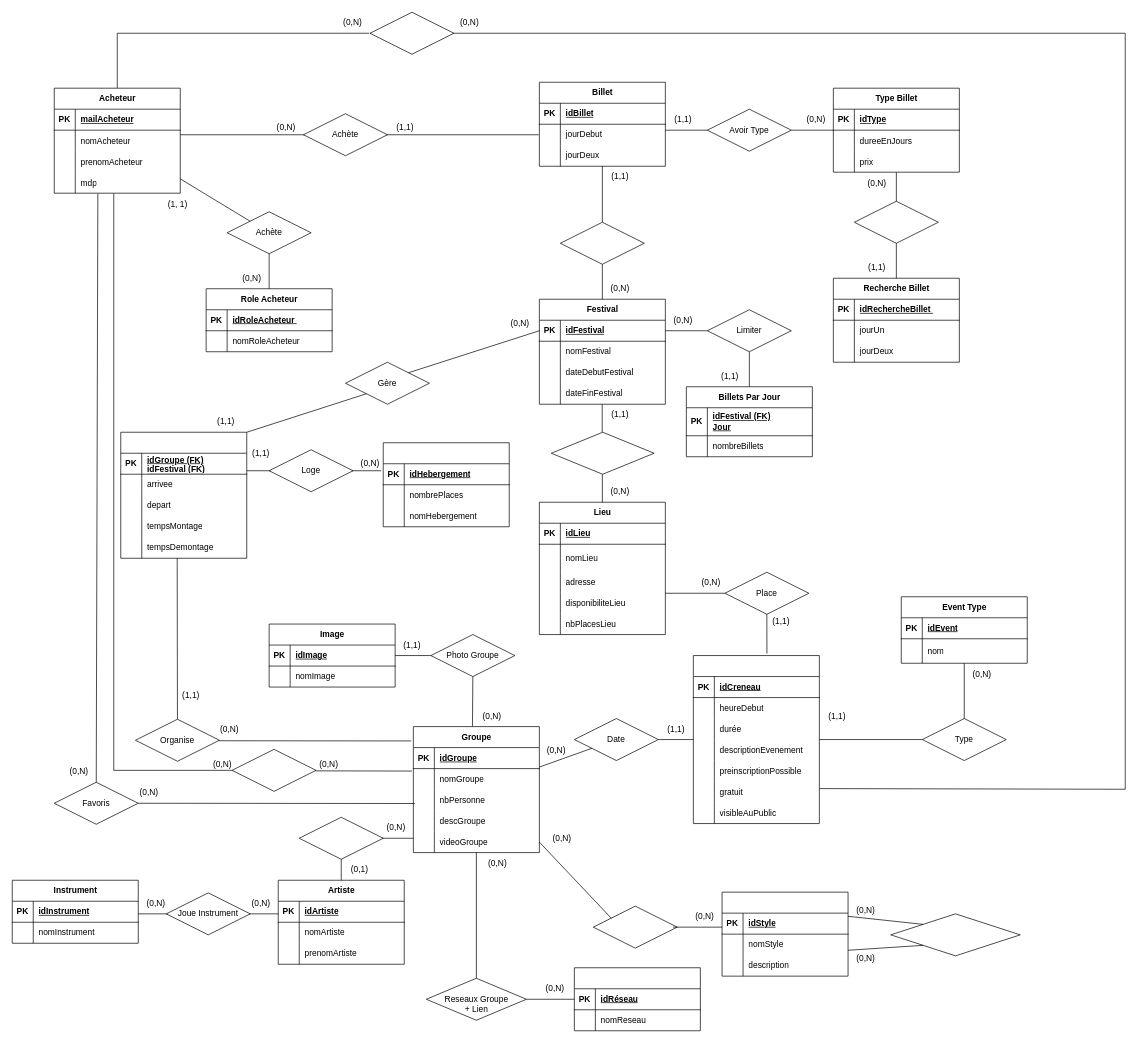
The diagram is 1138 pixels wide and 1043 high, and some of its shapes have lost their labels. The shapes that lost their labels are listed below. From the top down, each one's box as (x1, y1, x2, y2) in pixels, then its label:
(369, 12, 454, 54): Préinscrire
(854, 201, 938, 243): Recherche
(560, 222, 644, 264): Participe
(551, 432, 654, 474): Lieu Du Festival
(120, 432, 247, 558): Organisation Groupe
(383, 442, 509, 527): Hebergemment
(693, 655, 819, 824): Créneau
(231, 749, 316, 791): Favorise
(299, 817, 383, 859): Groupe Artiste
(593, 905, 677, 948): Joue
(721, 891, 848, 976): Style Musical
(890, 913, 1020, 956): Liaison Musicale
(574, 967, 700, 1031): ReseauxSociaux
